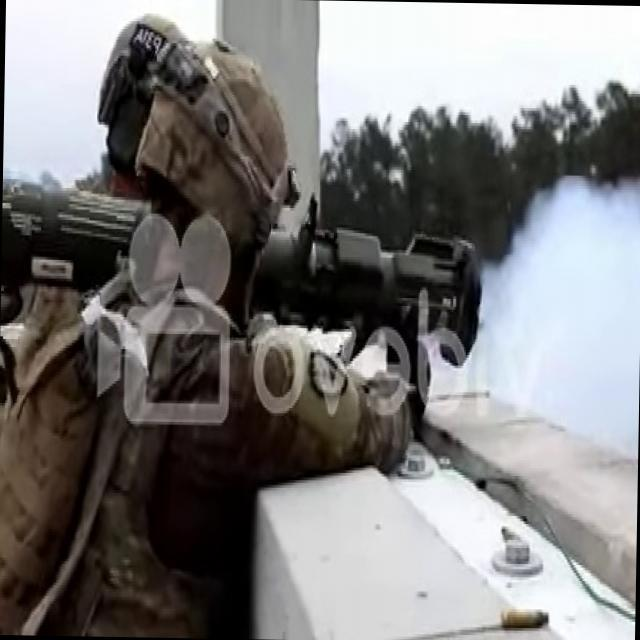rocket: (0, 178, 483, 373)
